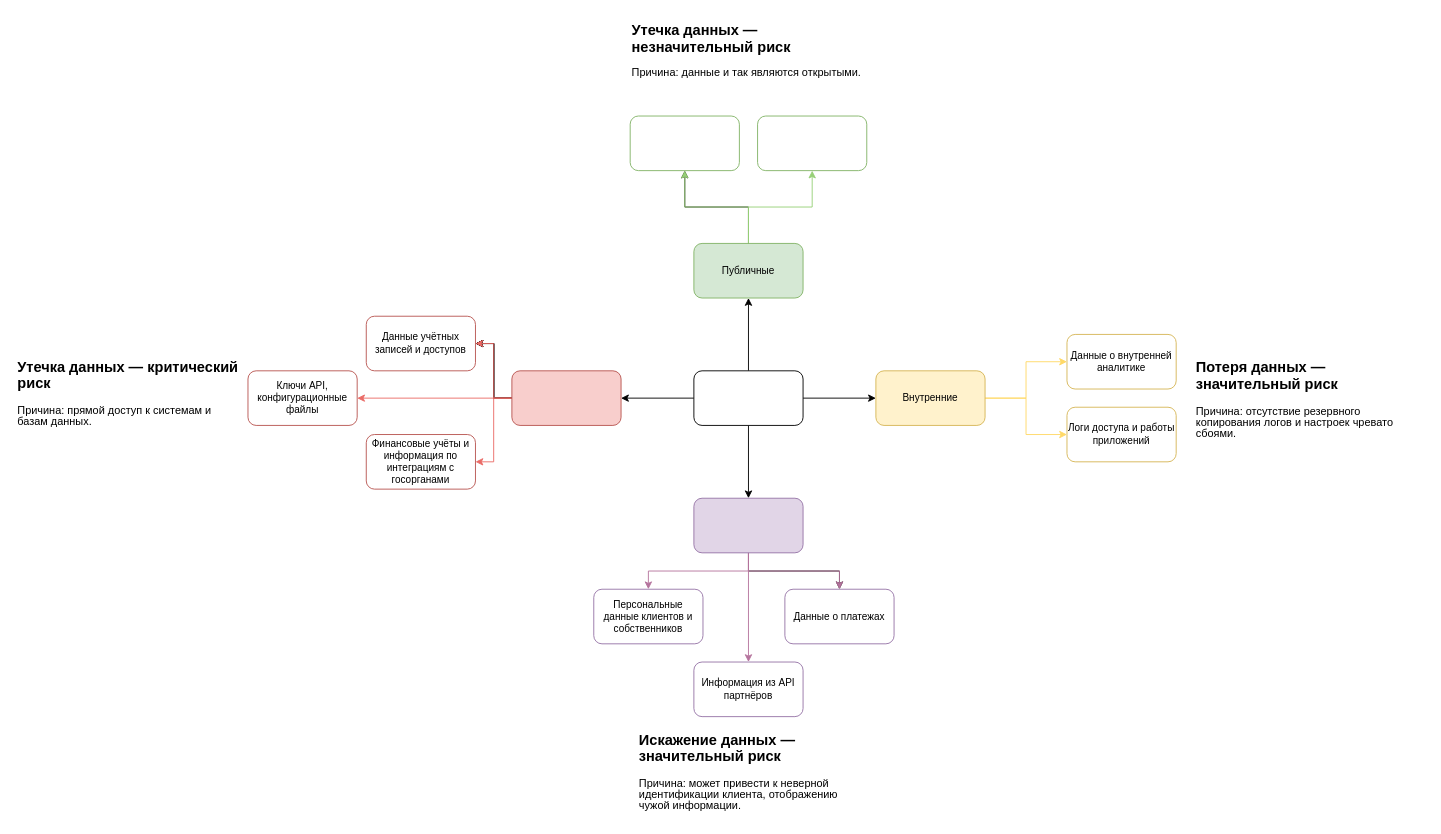
Some shapes in this 1441 by 834 pixel diagram are drawn without their labels. Each missing label, with the centre of its shape:
"Безопасность данных" goes at point (748, 397).
"Конфиденциальные" goes at point (748, 525).
"Общедоступная информация из CRM" goes at point (812, 143).
"Описание жилых комплексов на витрине продаж" goes at point (684, 143).
"Секретные" goes at point (566, 397).
